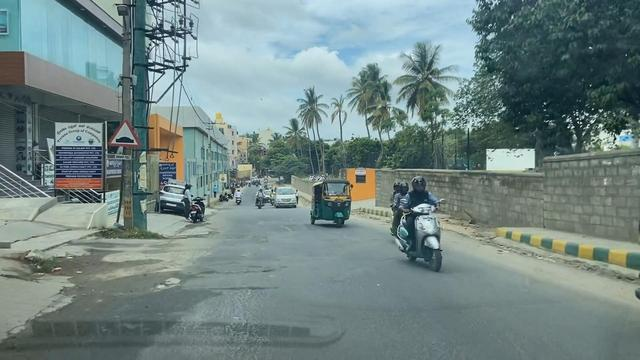LMV: (307, 171, 362, 232)
RoadDamages: (207, 246, 297, 300)
